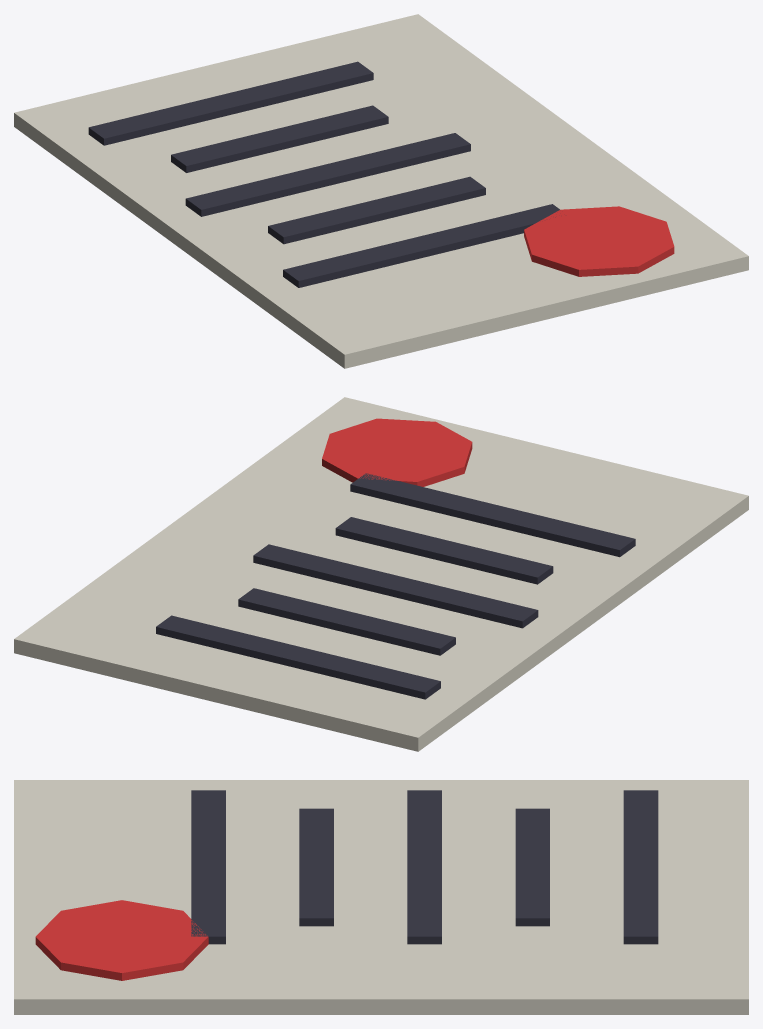
File: pawn_receipt.glb
The picture shows the model from 3 angles, top to bottom: view 1: azimuth 30°, elevation 25°; view 2: azimuth 150°, elevation 25°; view 3: azimuth 270°, elevation 25°; orthographic projection. The views are drawn at different scales.
Visible parts, largest first — view 1: paper_receipt, ink_receipt_ink (×5), ink_stamp; view 2: paper_receipt, ink_receipt_ink (×5), ink_stamp; view 3: paper_receipt, ink_receipt_ink (×5), ink_stamp.
Part boxes in pixels (bbox=[...]): paper_receipt: bbox=[14, 14, 748, 368]; ink_receipt_ink (×5): bbox=[88, 61, 559, 287]; ink_stamp: bbox=[524, 206, 674, 276]; paper_receipt: bbox=[14, 397, 748, 751]; ink_receipt_ink (×5): bbox=[156, 473, 635, 699]; ink_stamp: bbox=[322, 418, 472, 486]; paper_receipt: bbox=[14, 780, 748, 1014]; ink_receipt_ink (×5): bbox=[191, 790, 658, 944]; ink_stamp: bbox=[35, 900, 208, 980].
Bounding box in the file's own units: 0.12 × 0.006 × 0.17.
